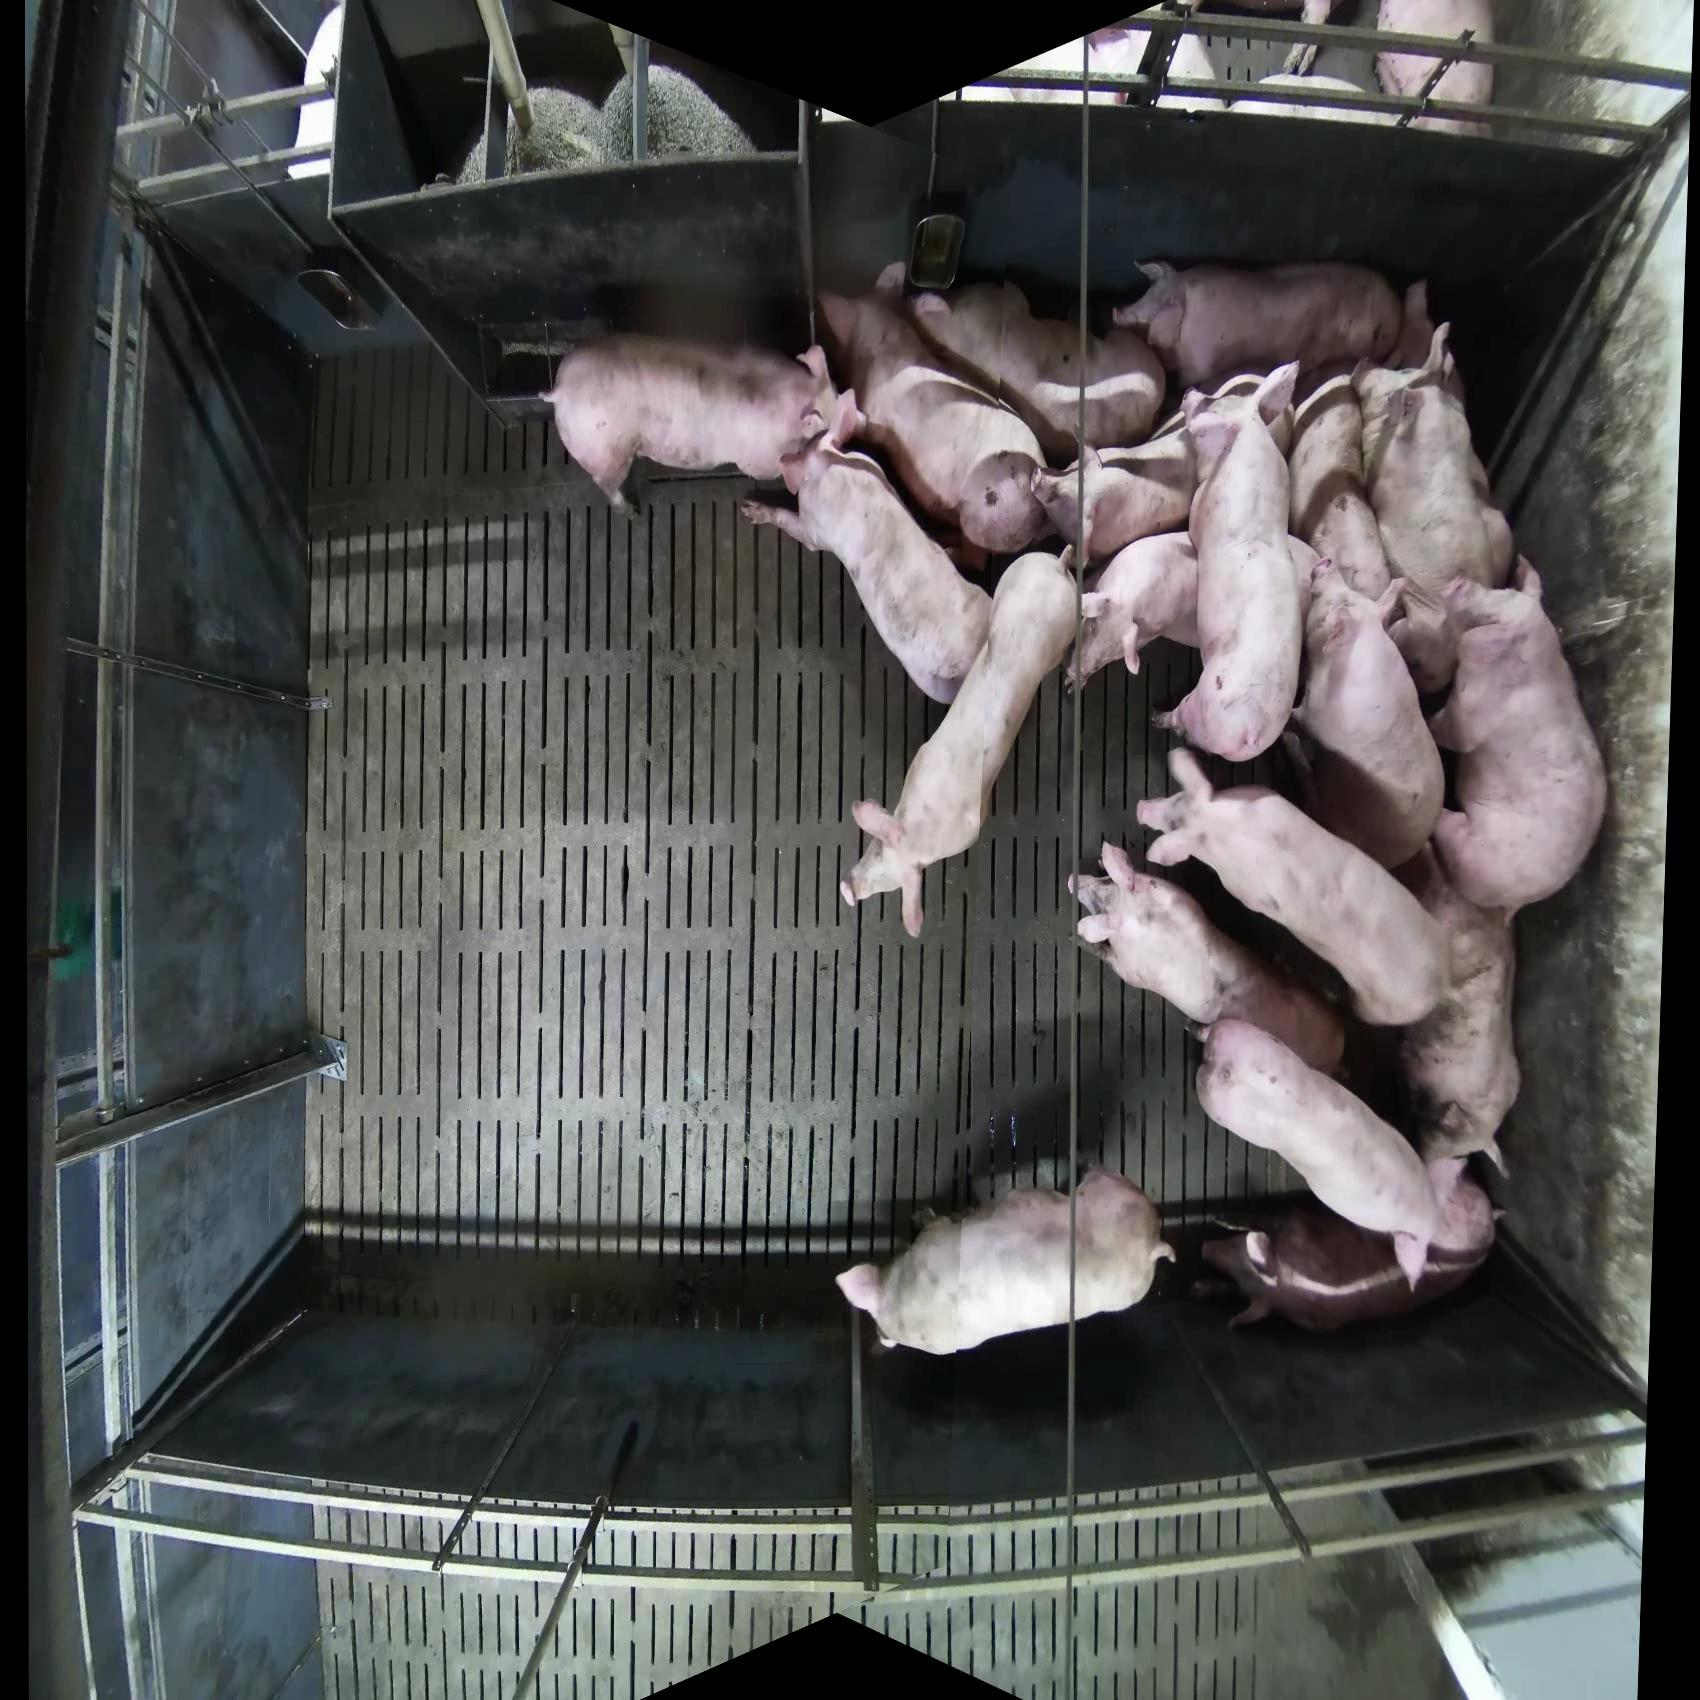pig: (838, 546, 1085, 940), (1135, 747, 1454, 1029), (816, 262, 1054, 560), (739, 436, 996, 707), (1194, 1017, 1443, 1294), (1426, 553, 1611, 917), (834, 1164, 1177, 1358), (1068, 838, 1347, 1074), (539, 330, 859, 515), (1160, 361, 1308, 763), (1199, 1154, 1501, 1336), (1289, 539, 1446, 870), (908, 277, 1168, 465), (1392, 845, 1523, 1182), (1110, 255, 1407, 392), (1375, 2, 1498, 139)
